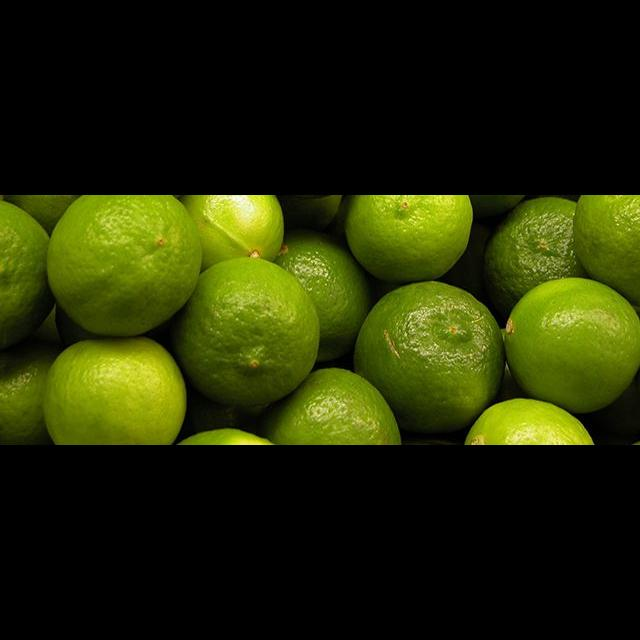lime: (175, 257, 320, 414), (354, 283, 507, 428), (49, 195, 201, 339), (505, 278, 640, 414), (48, 339, 186, 445), (489, 199, 590, 320), (345, 195, 475, 288), (258, 370, 404, 445), (0, 203, 55, 349), (182, 195, 286, 264), (576, 196, 640, 298), (465, 398, 595, 445)
